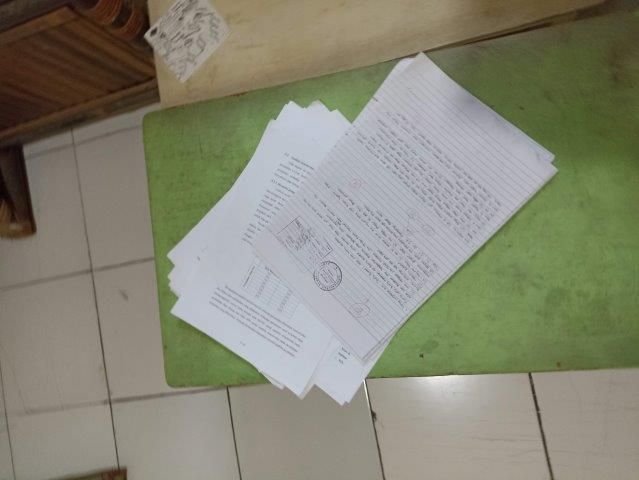kertas: (168, 52, 558, 407)
